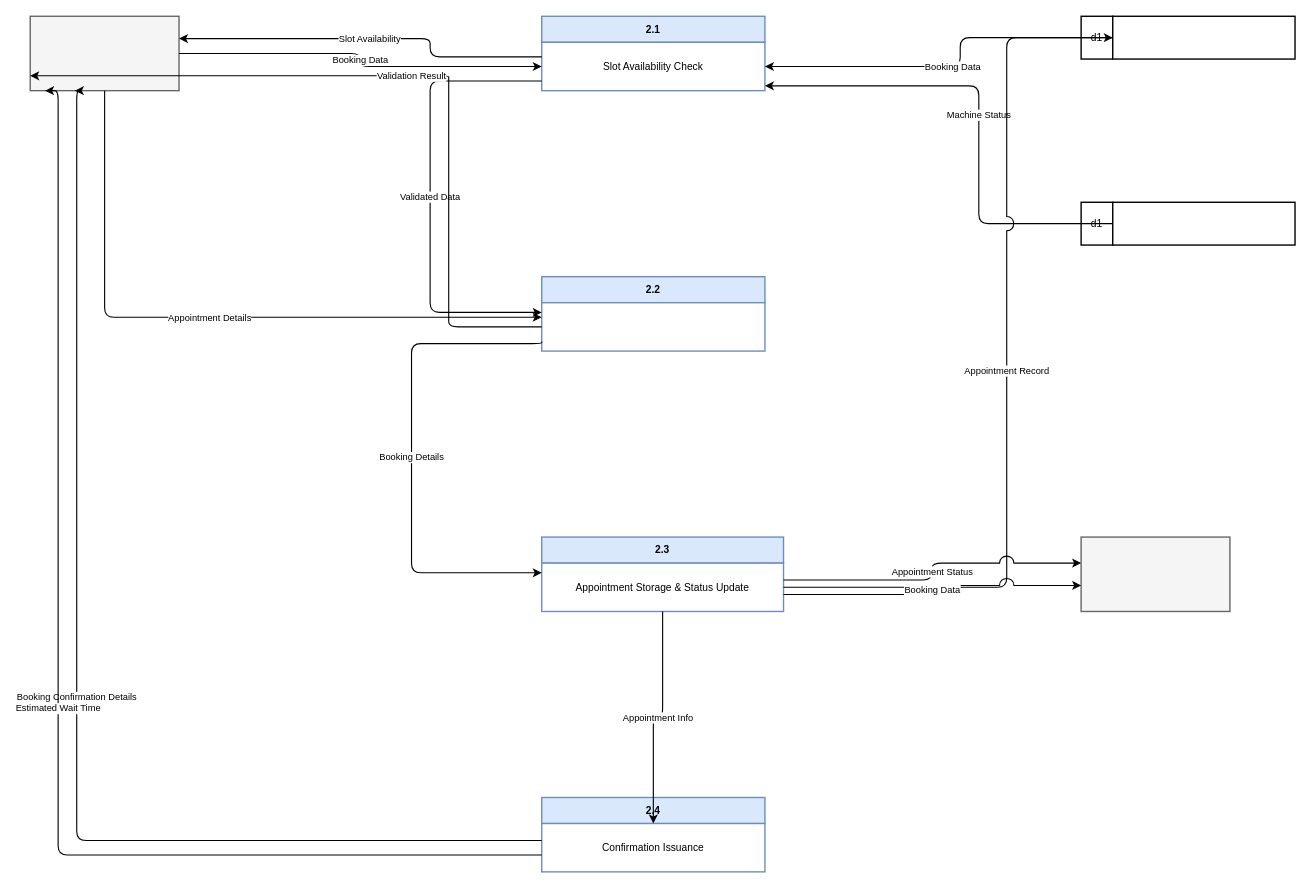
This 1312x889 diagram has some shape labels left out. Each missing label, with the centre of its shape:
"Booking Request Validation" goes at (x=653, y=326).
"Customer" goes at (x=104, y=53).
"Staff" goes at (x=1155, y=574).
"tbl_appointment" goes at (x=1203, y=37).
"tbl_machine_status" goes at (x=1203, y=223).
